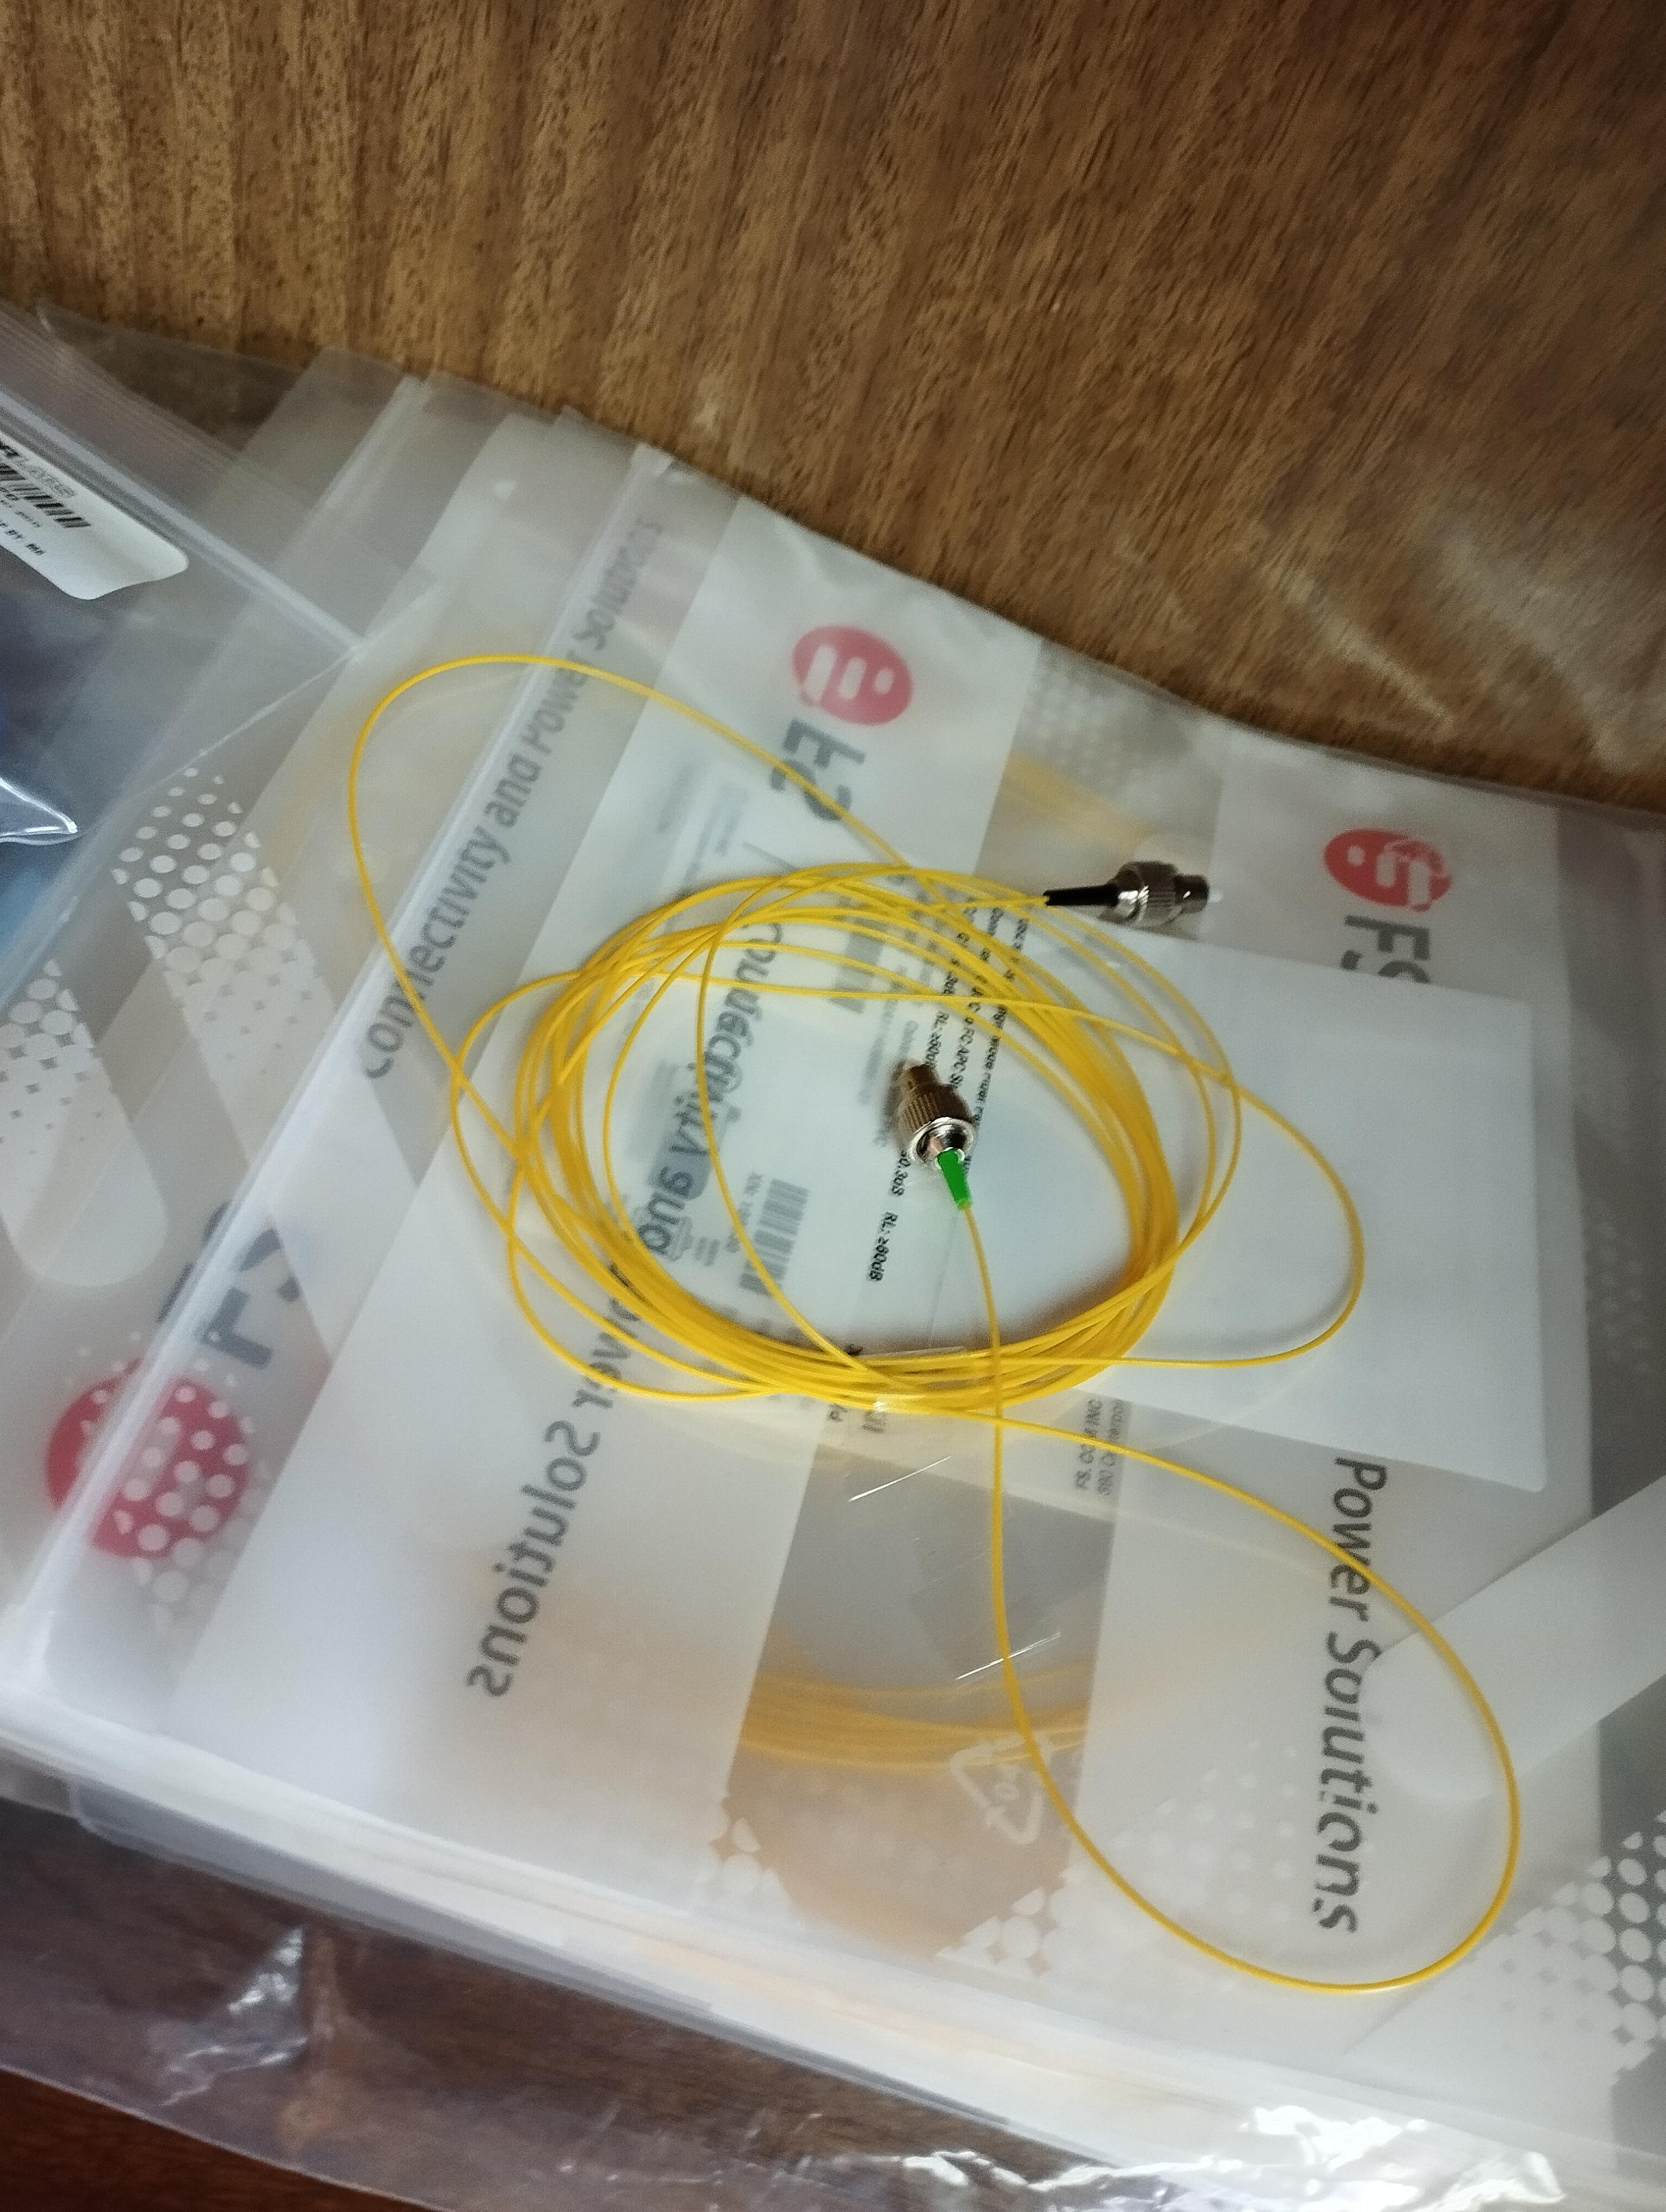fiber_cable: (467, 845, 1274, 1439)
